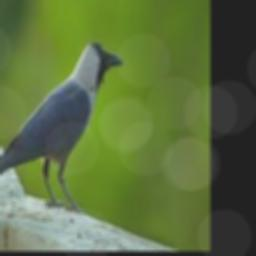Crow: (0, 43, 124, 210)
